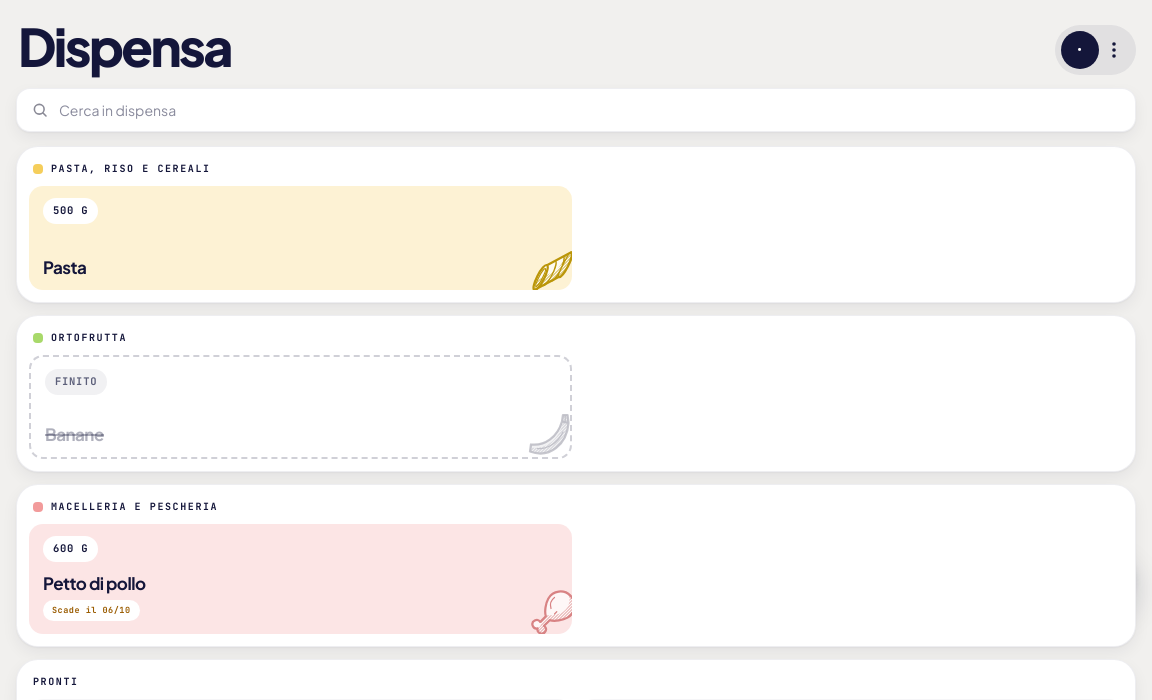
it: Dispensa: il dettaglio › se la scrittura fallisce la tessera torna com'era e il foglio lo dice
This screenshot has width=1152, height=700.
Click the button with aria-label "Apri Petto di pollo" at (71, 549), box top-left (29, 524), bottom-right (572, 634)
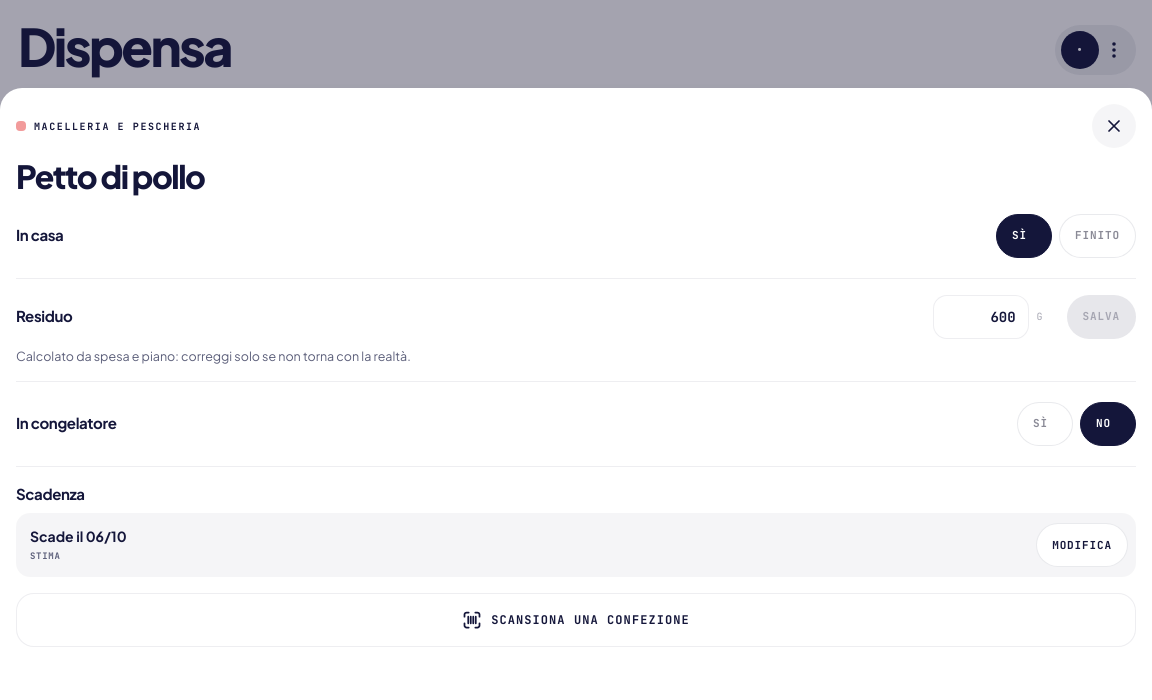
Click the button with aria-label "Petto di pollo: segna finito" at (1098, 236), box top-left (1059, 214), bottom-right (1136, 258)
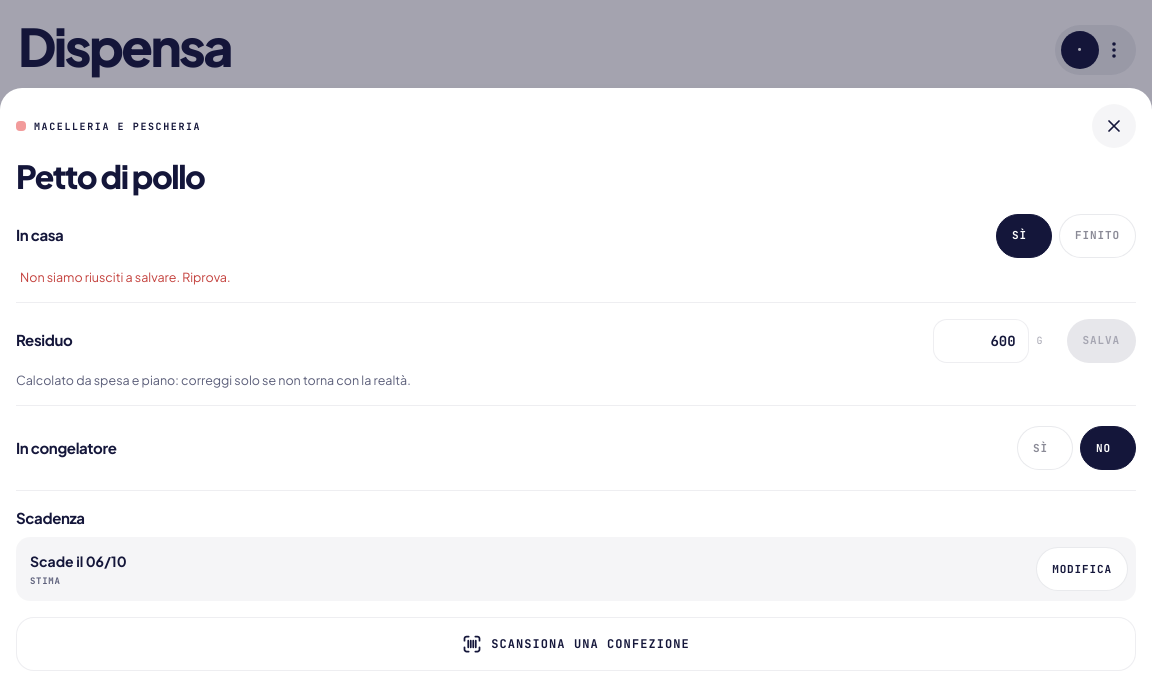
Expected: the button with aria-label "Apri Petto di pollo" shows "600 g", top-left (29, 524), bottom-right (572, 634)
Expected: the text "Non siamo riusciti a salvare. Riprova." is shown, top-left (20, 269), bottom-right (231, 285)
